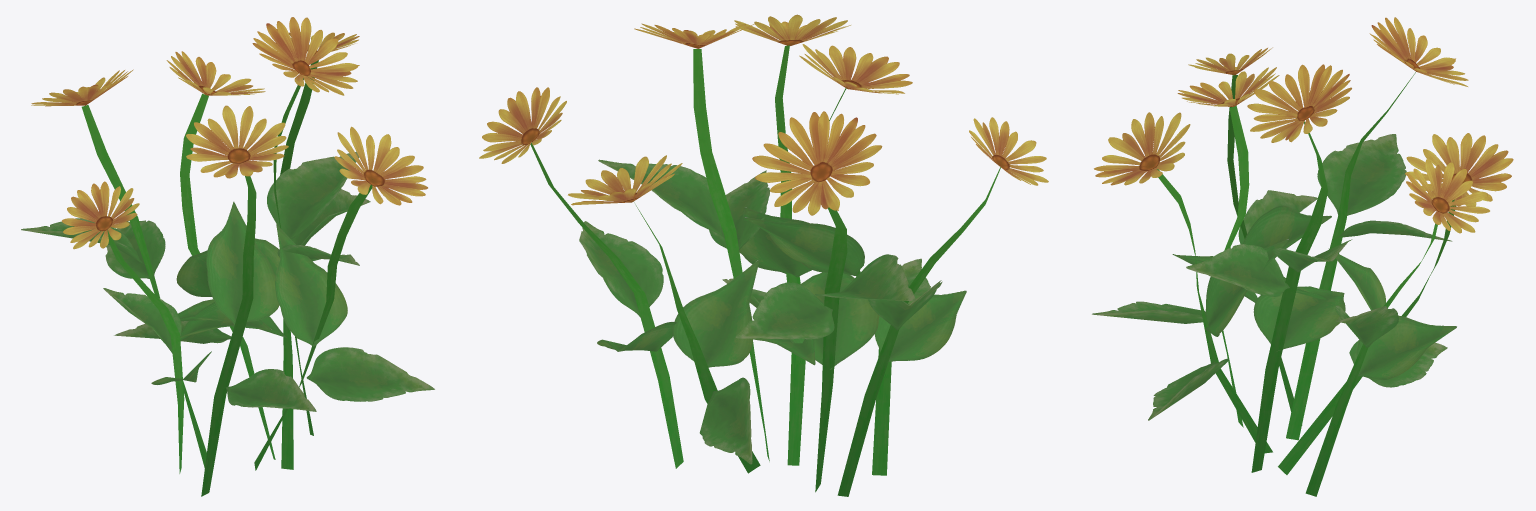
The model's file is MSH_fwOF_Flowers_02_B.fbx.
The picture shows the model from 3 angles, left to right: view 1: azimuth 30°, elevation 25°; view 2: azimuth 150°, elevation 25°; view 3: azimuth 270°, elevation 25°; orthographic projection. The views are drawn at different scales.
Visible parts, largest first — view 1: MSH_fwOF_Flowers_02_B; view 2: MSH_fwOF_Flowers_02_B; view 3: MSH_fwOF_Flowers_02_B.
Part boxes in pixels (x1,y1,x2,y2): MSH_fwOF_Flowers_02_B: (21,17,434,496); MSH_fwOF_Flowers_02_B: (479,14,1048,496); MSH_fwOF_Flowers_02_B: (1092,17,1513,496).
Bounding box in the file's own units: 0.4037 × 0.3961 × 0.3799.
